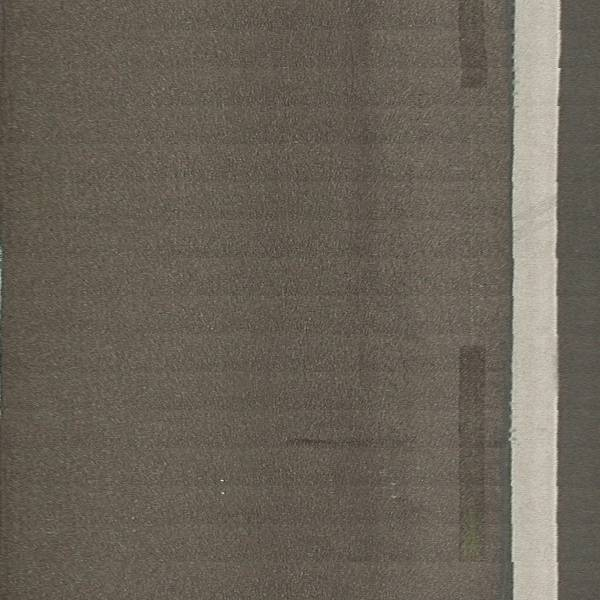road_damage: (281, 431, 426, 457)
